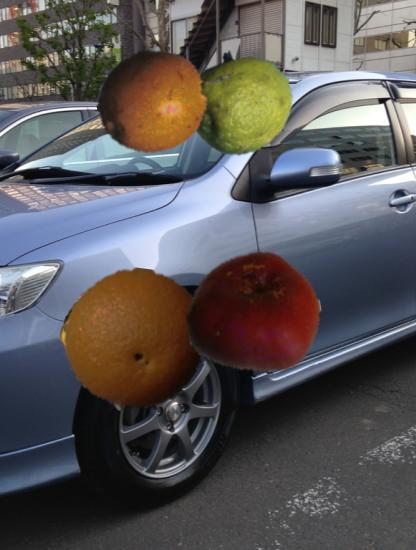Granadilla: (96, 28, 236, 168)
Limes: (186, 48, 294, 156)
Nectarine: (186, 246, 322, 382)
Orange: (63, 268, 208, 413)
Quince: (60, 288, 158, 386)
